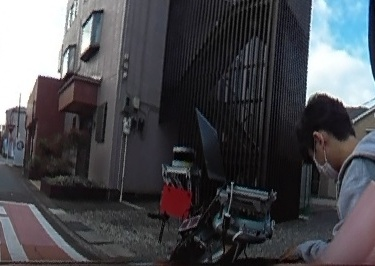person: (290, 94, 375, 265)
